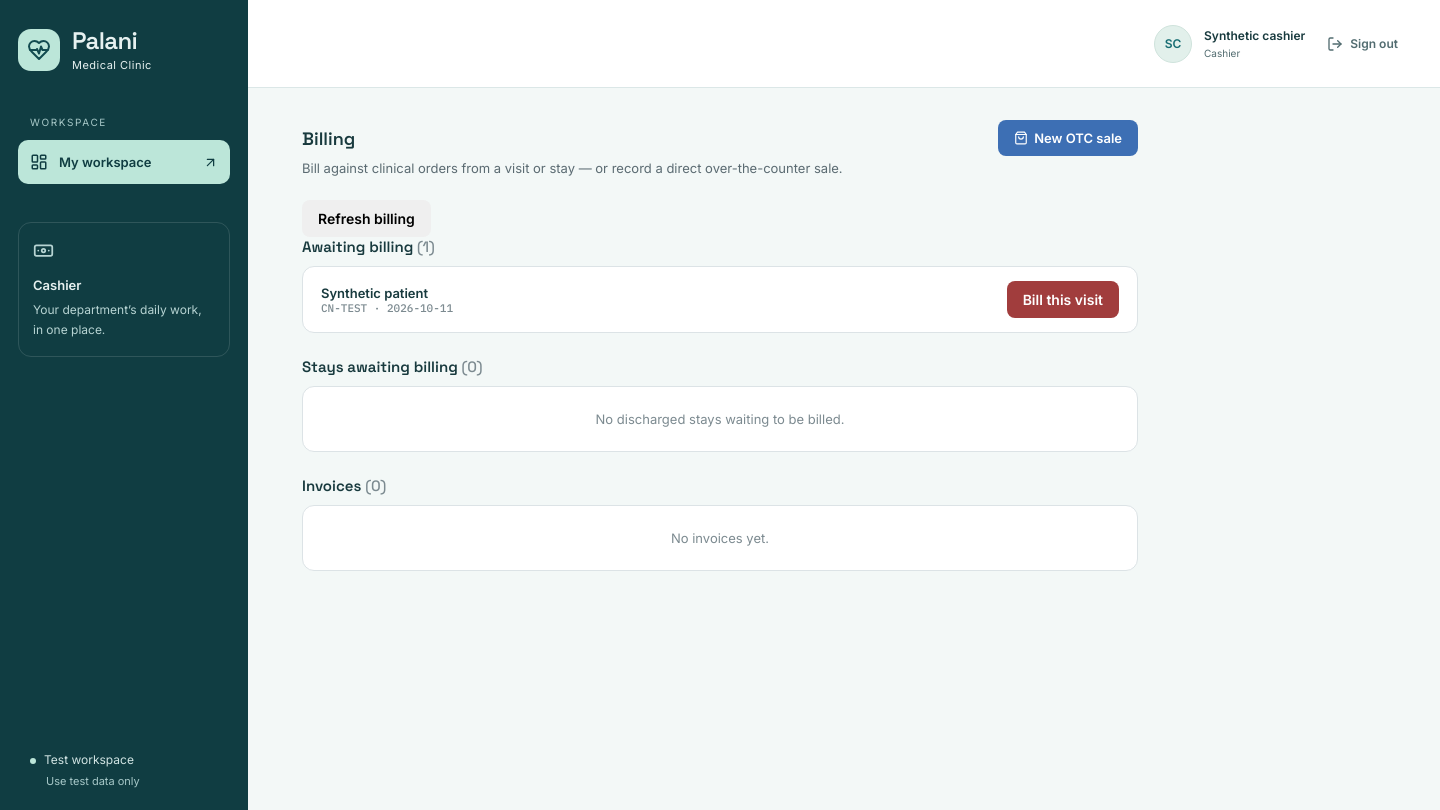
Test: atomic invoice UI › keeps an OTC draft after line storage is rejected
The width and height of the screenshot is (1440, 810).
Click the button "New OTC sale": (1068, 138) [998,120,1138,156]
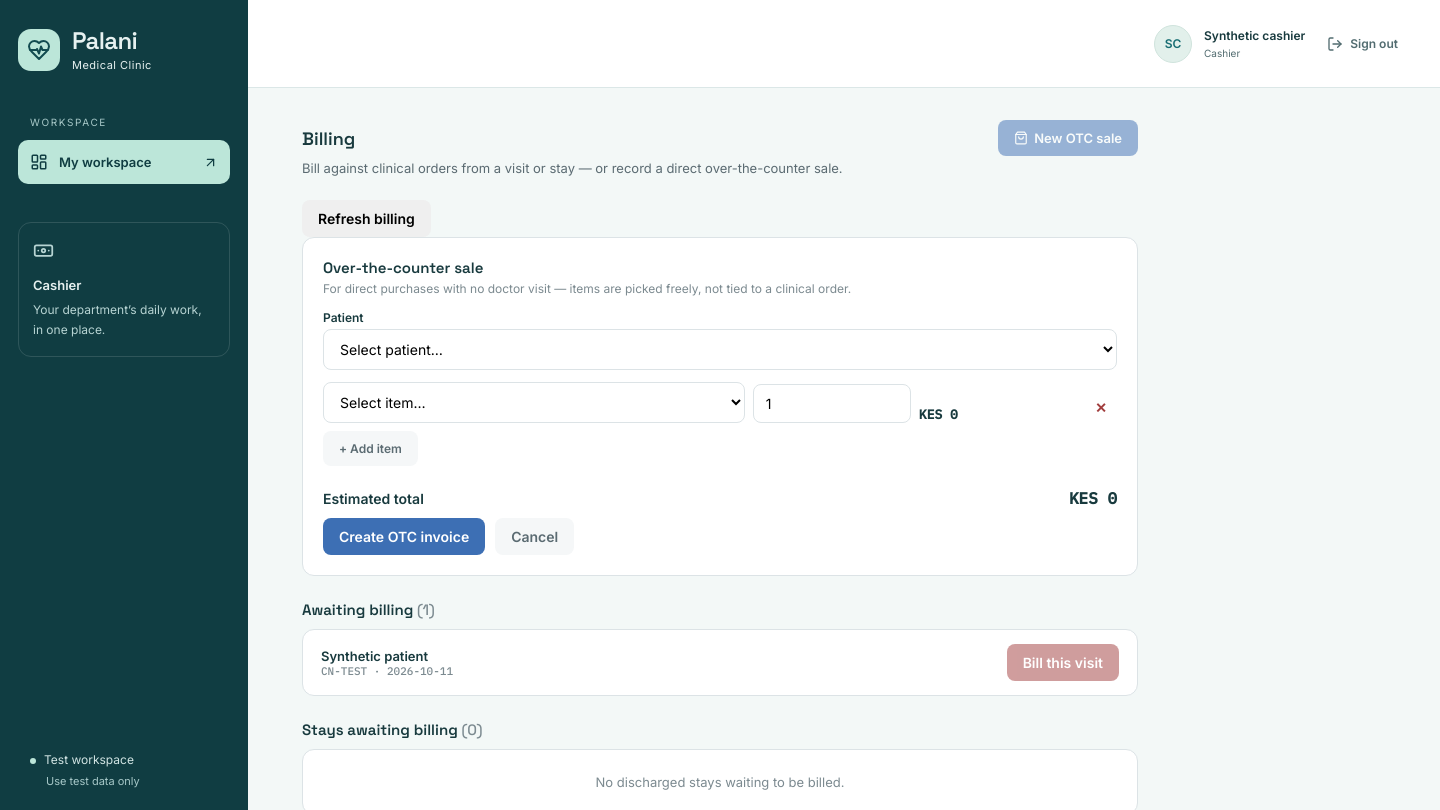
Select "Synthetic patient — PT-TEST" in the dropdown labelled "Patient": (720, 350) [323,329,1117,370]
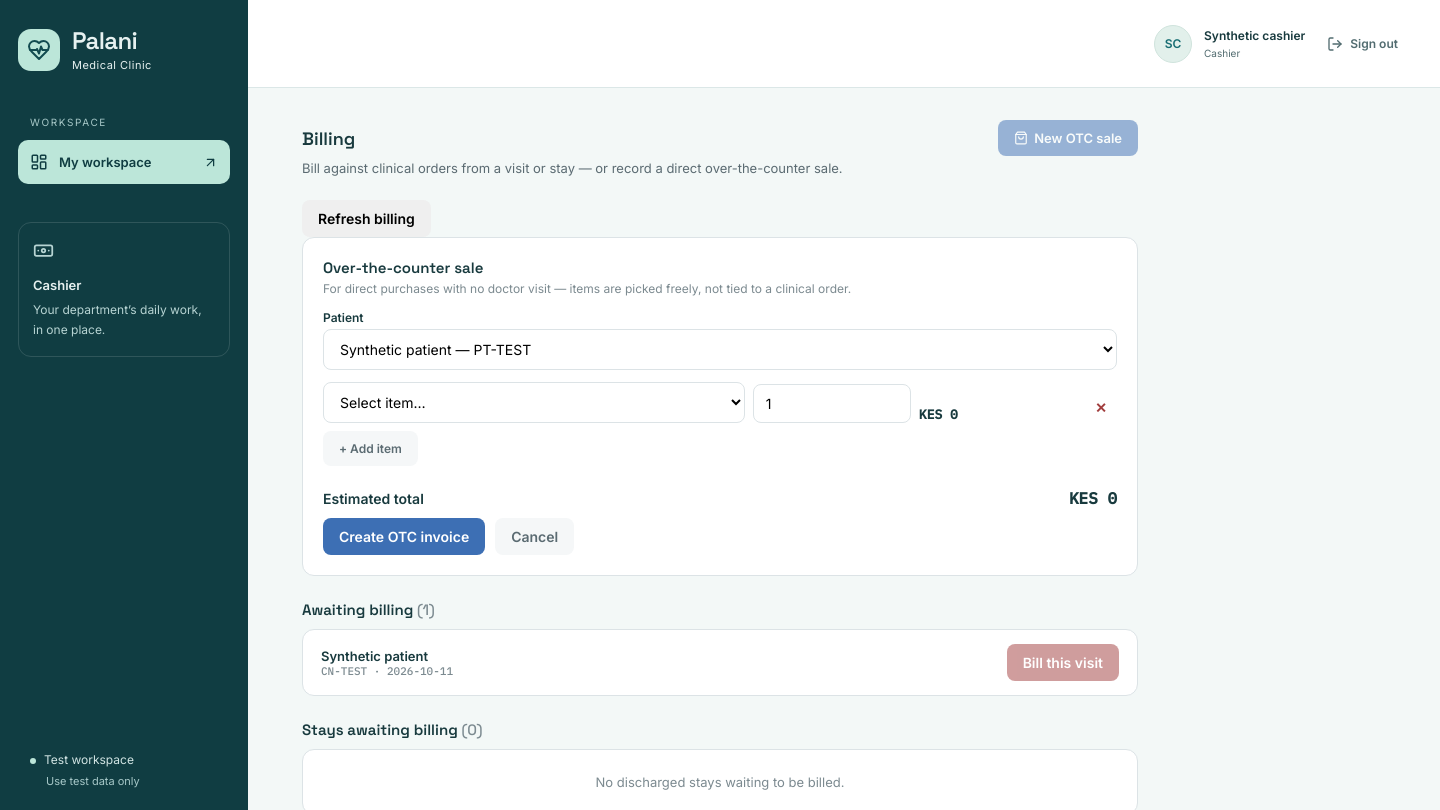
Select "Synthetic consultation fee — KES 10.25/visit" in the dropdown named "OTC item": (534, 402) [323,382,745,423]
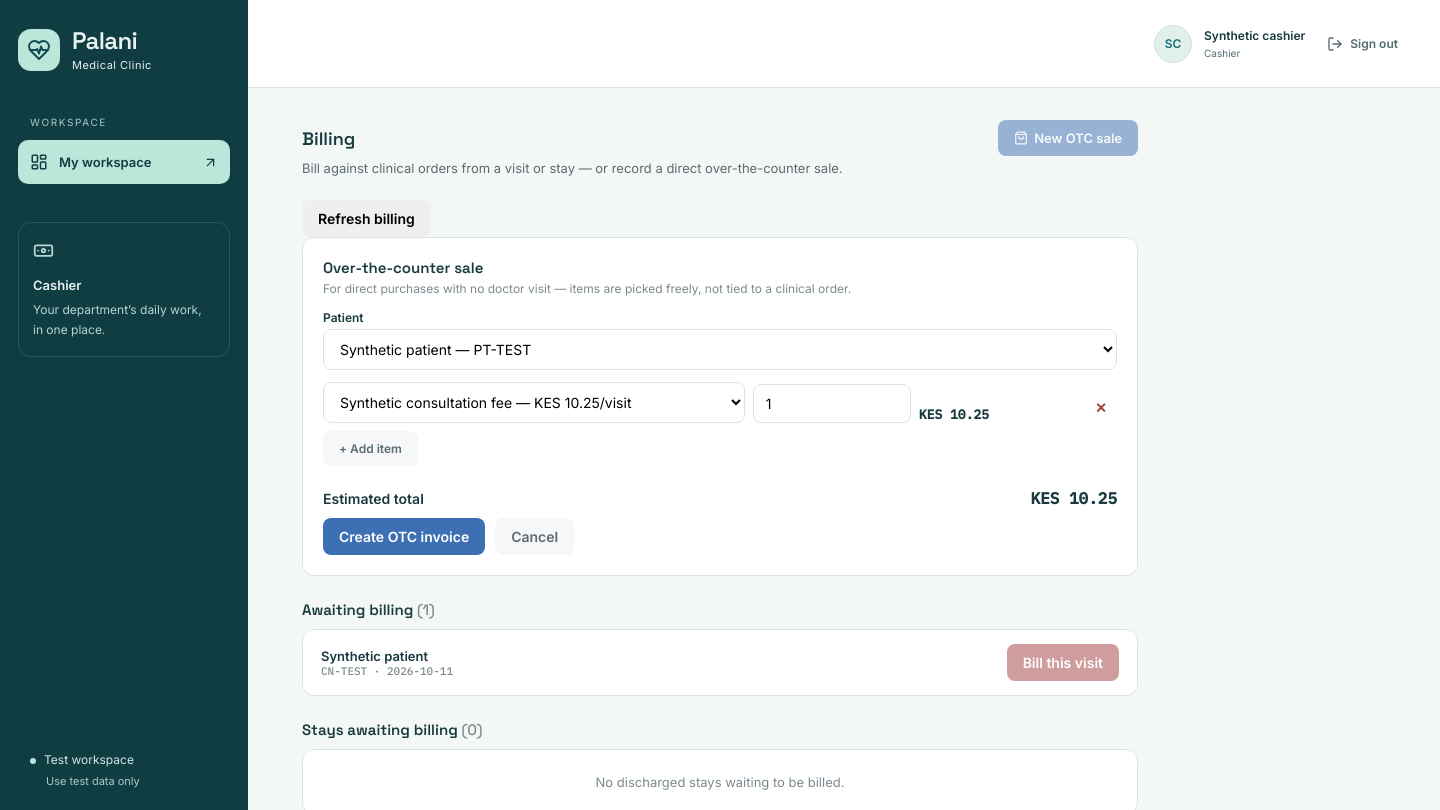
Click the button "Create OTC invoice": (404, 536) [323,518,485,555]
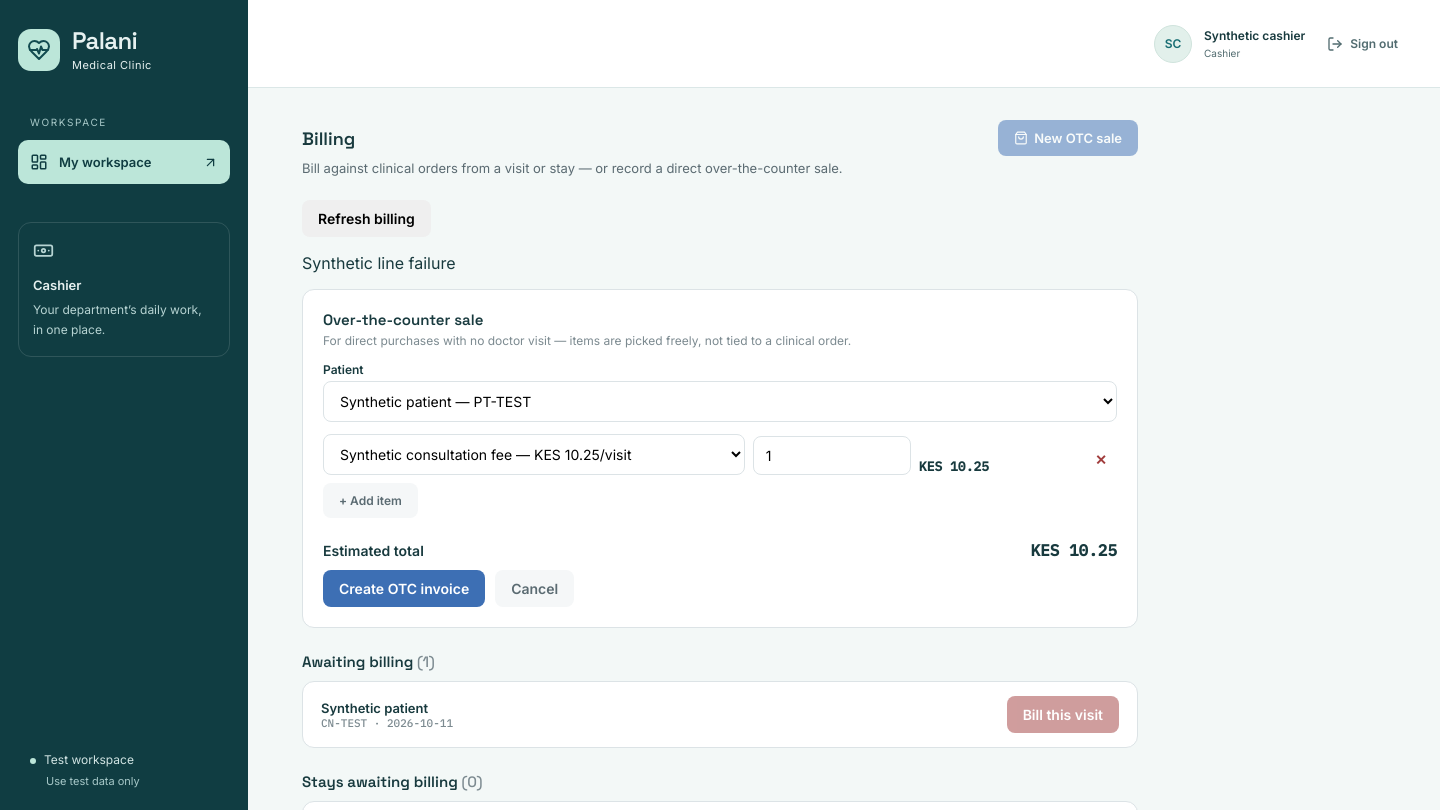
Now the text "Synthetic line failure" is shown, box [302,253,456,273]
